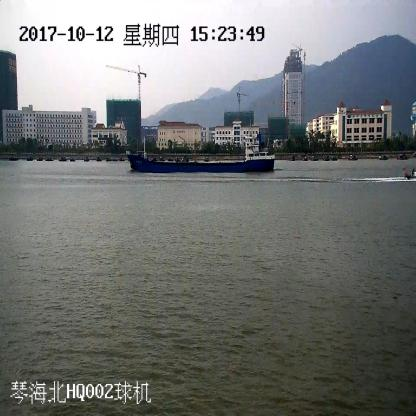Bulk Carrier: (127, 136, 277, 172)
